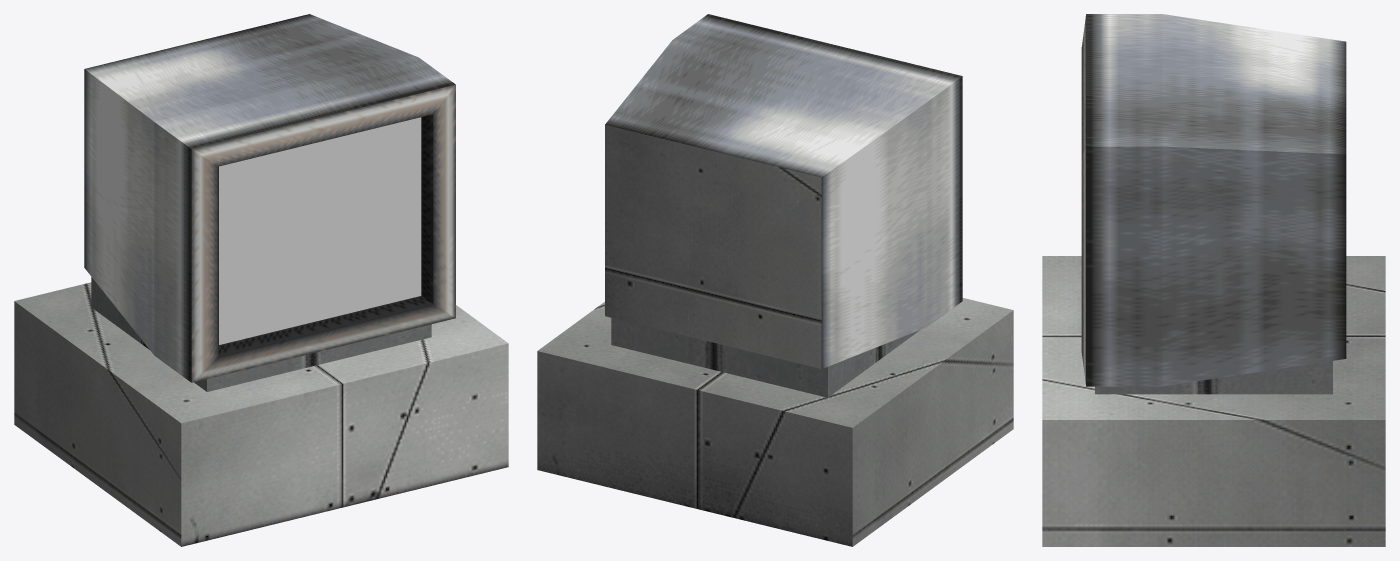
3 views of the same model, side by side, from view 1: azimuth 30°, elevation 25°; view 2: azimuth 150°, elevation 25°; view 3: azimuth 270°, elevation 25° (orthographic). The views are drawn at different scales.
Visible parts, largest first — view 1: PC; view 2: PC; view 3: PC.
Part boxes in pixels (x1,y1,x2,y2): PC: (14,14,508,546); PC: (537,14,1013,546); PC: (1042,14,1385,546).
Size of the model in its own units: 114 by 124 by 101.
